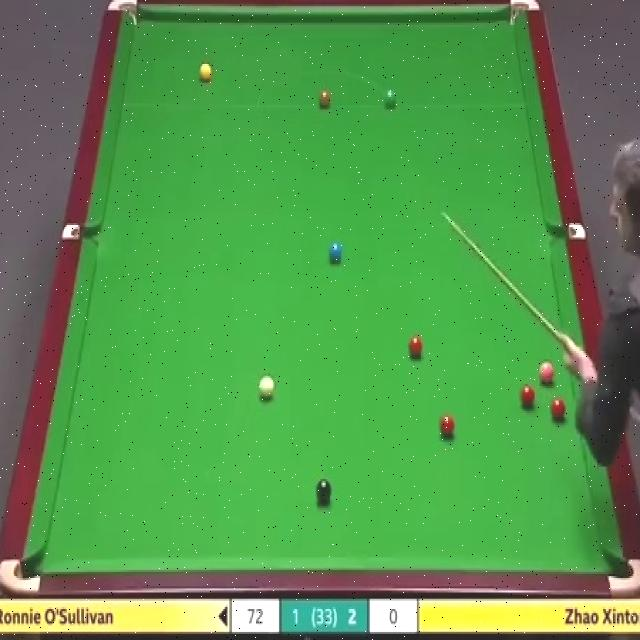black-ball: (316, 476, 332, 502)
blue-ball: (328, 239, 342, 266)
brown-ball: (318, 90, 332, 108)
green-ball: (382, 87, 398, 110)
pink-ball: (538, 362, 554, 385)
red-ball: (407, 335, 426, 363), (437, 416, 456, 442), (550, 397, 566, 420), (520, 384, 536, 404)
white-ball: (259, 374, 276, 404)
yellow-ball: (200, 64, 212, 84)
